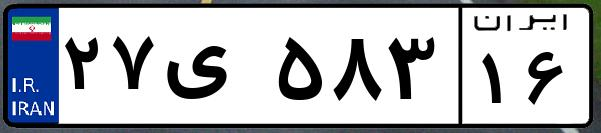1: (475, 38, 525, 113)
2: (57, 26, 110, 100)
3: (385, 28, 445, 110)
5: (270, 28, 330, 110)
6: (525, 38, 570, 115)
7: (110, 28, 158, 98)
8: (330, 28, 385, 110)
ی: (158, 20, 270, 120)
